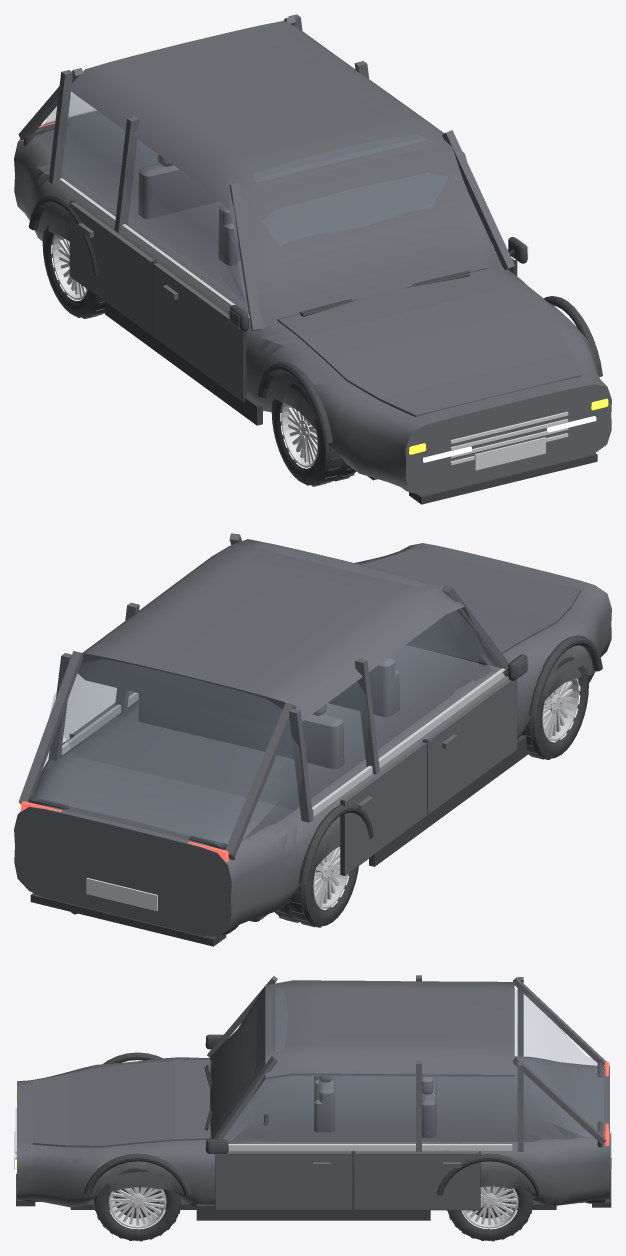
Rendered from type_crossover.glb.
3 renders of one model, top to bottom at view 1: azimuth 30°, elevation 25°; view 2: azimuth 150°, elevation 25°; view 3: azimuth 270°, elevation 25°, orthographic. The views are drawn at different scales.
Parts seen in each view (by area): view 1: coupe-suv, bonnet, door-front-left, door-rear-left, boot/glass, wheel-front-left/trim, wheel-front-left/alloy, wheel-rear-left/trim, wheel-rear-left/alloy; view 2: coupe-suv, boot/glass, bonnet, door-front-left, door-rear-left, wheel-front-left/trim, wheel-rear-left/trim, wheel-front-left/alloy, wheel-rear-left/alloy; view 3: coupe-suv, bonnet, boot/glass, door-front-right, door-rear-right, wheel-front-right/trim, wheel-front-right/alloy, wheel-rear-right/trim, wheel-rear-right/alloy.
Boxes of the visible parts, x1,y1,x2,y2 form: coupe-suv: (14, 14, 611, 504); bonnet: (278, 268, 581, 417); door-front-left: (153, 263, 241, 401); door-rear-left: (70, 202, 153, 335); boot/glass: (29, 92, 156, 177); wheel-front-left/trim: (271, 384, 356, 486); wheel-front-left/alloy: (281, 403, 318, 467); wheel-rear-left/trim: (42, 224, 104, 318); wheel-rear-left/alloy: (52, 234, 87, 299); coupe-suv: (14, 533, 611, 946); boot/glass: (28, 659, 308, 849); bonnet: (363, 548, 581, 653); door-front-left: (426, 678, 516, 814); door-rear-left: (343, 742, 426, 874); wheel-front-left/trim: (522, 657, 588, 759); wheel-rear-left/trim: (275, 862, 358, 927); wheel-front-left/alloy: (542, 678, 579, 741); wheel-rear-left/alloy: (313, 846, 348, 908); coupe-suv: (14, 975, 611, 1220); bonnet: (32, 1059, 209, 1147); boot/glass: (515, 989, 603, 1141); door-front-right: (216, 1152, 352, 1209); door-rear-right: (354, 1152, 479, 1209); wheel-front-right/trim: (93, 1168, 181, 1241); wheel-front-right/alloy: (109, 1187, 166, 1228); wheel-rear-right/trim: (447, 1183, 533, 1241); wheel-rear-right/alloy: (462, 1186, 518, 1228).
Bounding box in the file's own units: 2.13 × 1.62 × 4.96.
